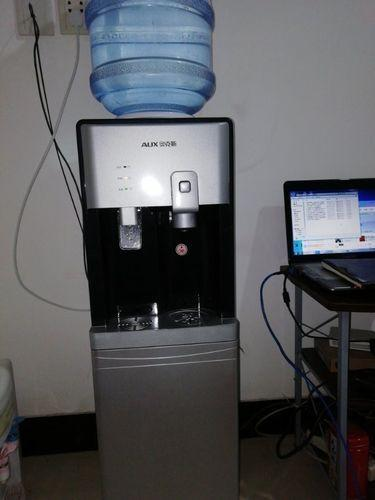Dispenser: (73, 0, 240, 499)
